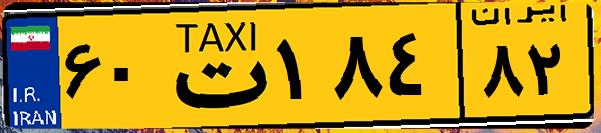0: (110, 28, 158, 98)
1: (270, 28, 330, 110)
2: (525, 38, 570, 115)
4: (385, 28, 445, 110)
6: (57, 26, 110, 100)
8: (330, 28, 385, 110), (475, 38, 525, 113)
ت: (158, 12, 270, 120)
